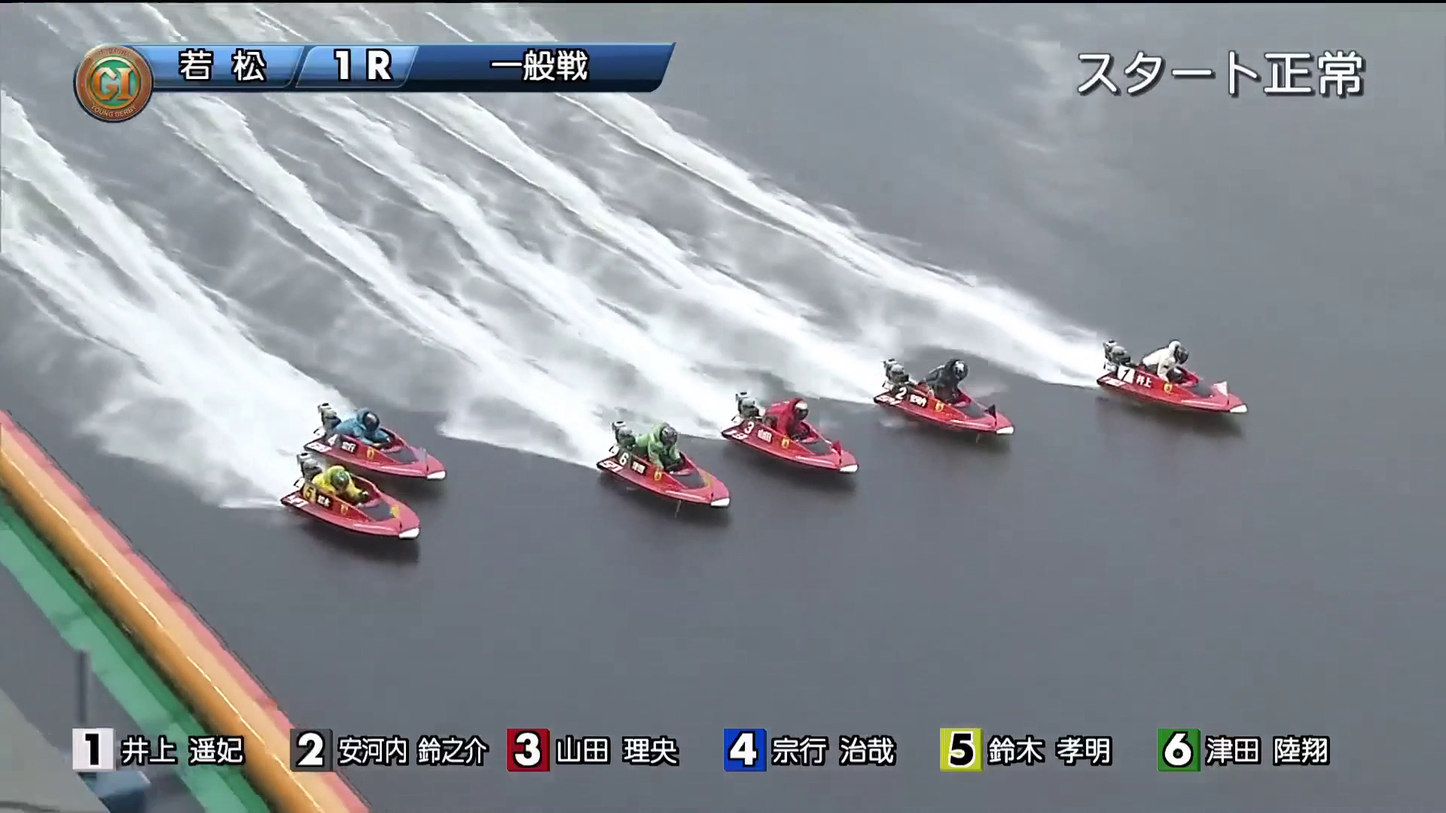１号艇: (1113, 350, 1241, 401)
２号艇: (891, 367, 1013, 423)
３号艇: (751, 425, 883, 467)
４号艇: (622, 452, 739, 513)
５号艇: (333, 428, 456, 483)
６号艇: (334, 510, 434, 567)
